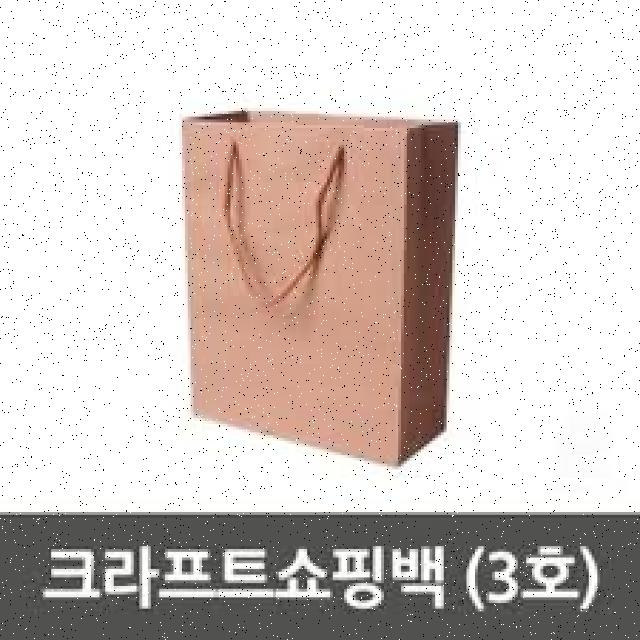paper bag: (178, 108, 464, 470)
